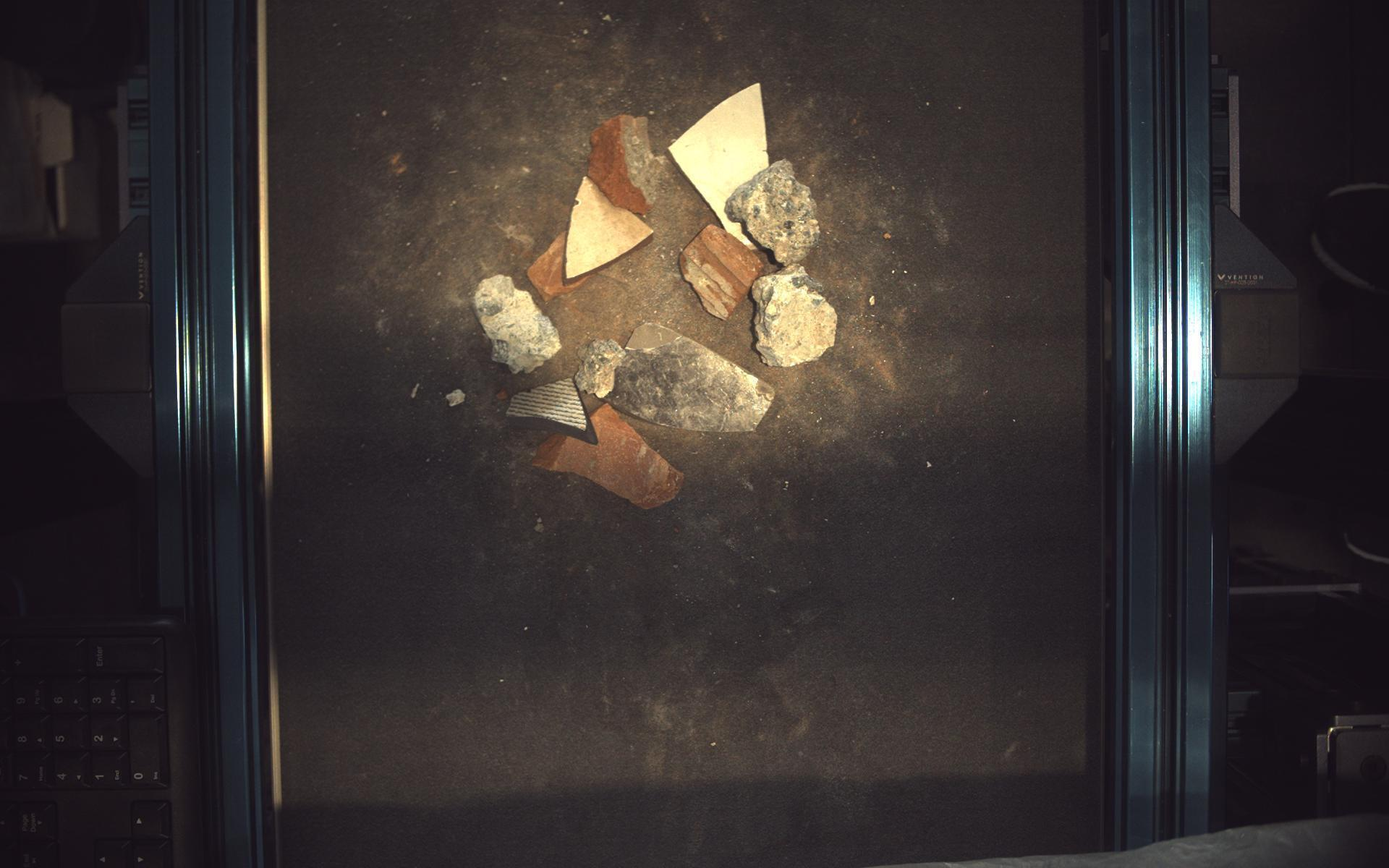brick: (534, 404, 684, 509), (681, 224, 765, 319), (588, 113, 666, 215), (527, 229, 591, 301)
concrete: (726, 158, 821, 265), (473, 274, 561, 373), (753, 265, 838, 367), (574, 339, 626, 399)
tile: (608, 322, 776, 432), (669, 82, 770, 247), (566, 175, 654, 278), (506, 378, 596, 443)
